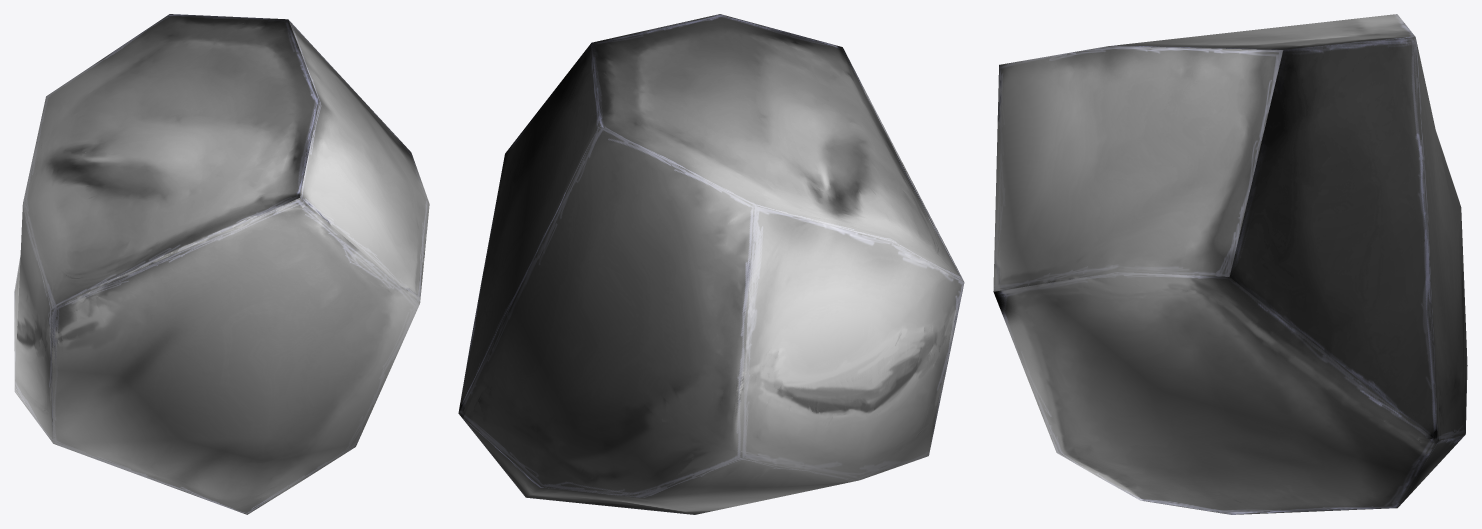
The model's file is rock_4.fbx.
3 renders of one model, left to right at view 1: azimuth 30°, elevation 25°; view 2: azimuth 150°, elevation 25°; view 3: azimuth 270°, elevation 25°, orthographic. The views are drawn at different scales.
Parts seen in each view (by area): view 1: rock_4; view 2: rock_4; view 3: rock_4.
Boxes of the visible parts, box(x1,y1,x2,y2) form: rock_4: box(14, 14, 429, 514); rock_4: box(458, 14, 964, 514); rock_4: box(993, 14, 1467, 514).
Size of the model in its own units: 1.9 by 2 by 1.69.
